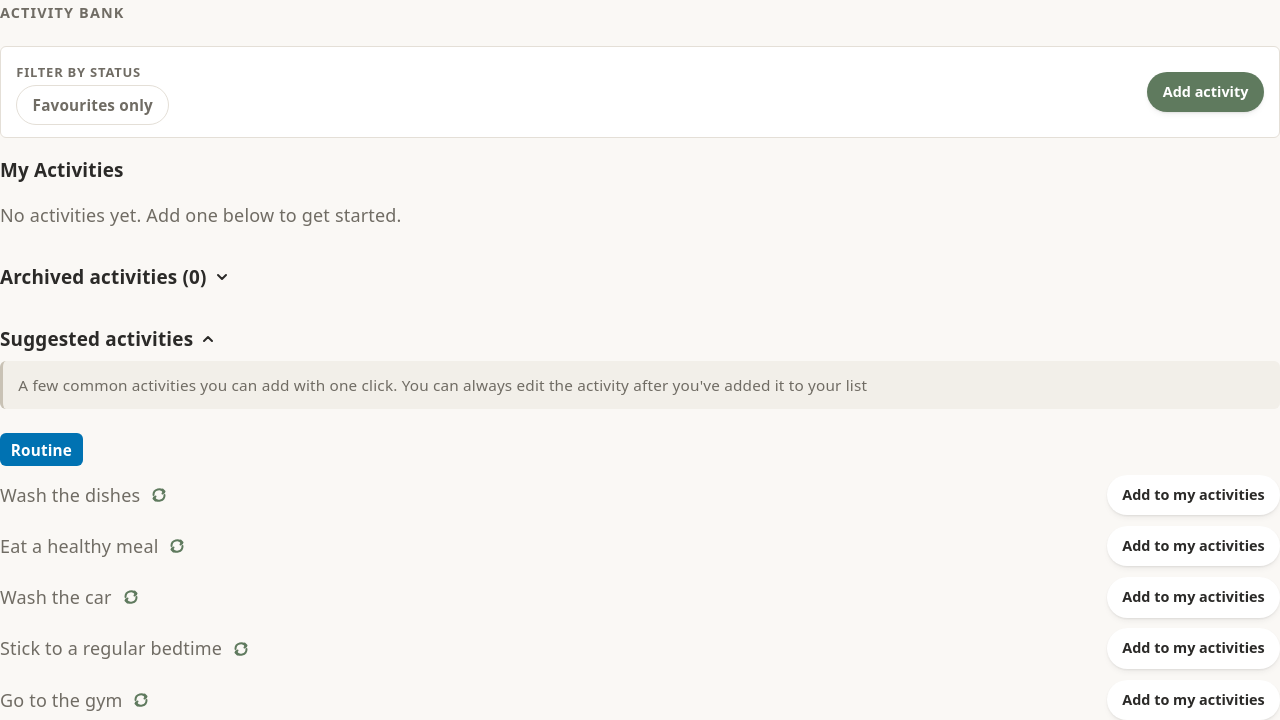
Test: ActivityBank › FRONTEND-013-AC-01/AC-02/AC-03: Add activity opens a modal, not a bottom form › renders no form until Add activity is clicked, then opens it in a dialog
This screenshot has width=1280, height=720.
Expected: the text "No activities yet. Add one below to get started." is shown, [0,203,402,227]
Expected: the field labelled "name" is not shown
Click the button "Add activity" at coordinates (1206, 92), box [1148,72,1264,112]
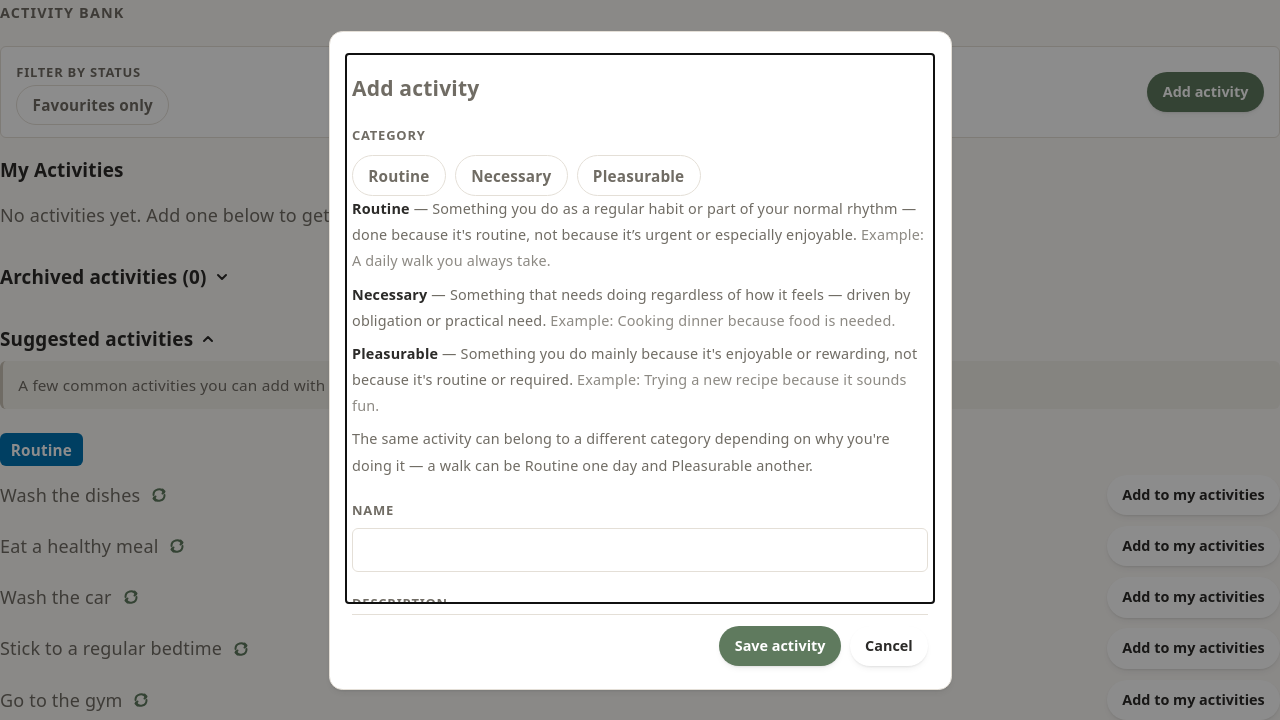
Expected: the dialog "Add activity" is shown, [328,30,952,690]
Expected: the field labelled "Name" is shown, [352,528,928,572]
